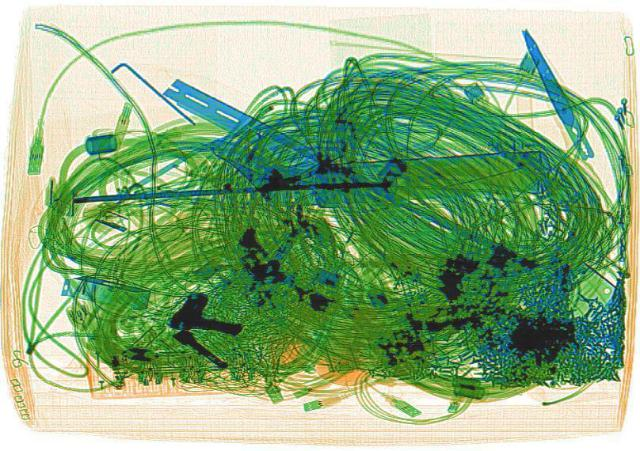Gun: (166, 287, 247, 337)
